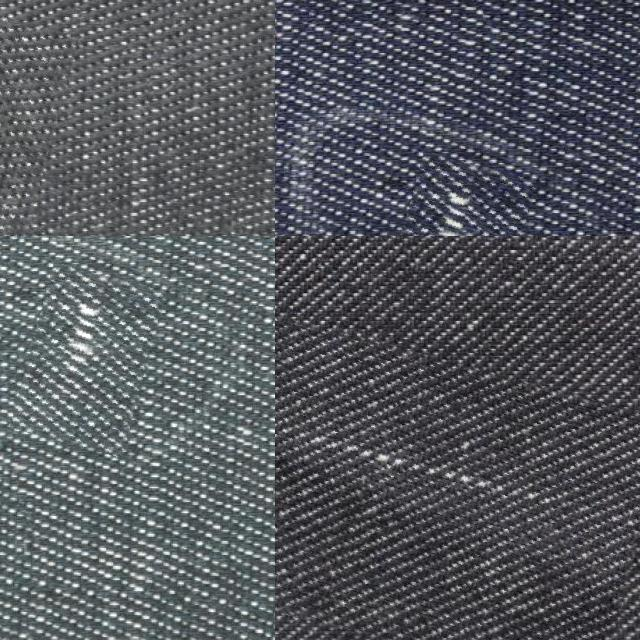Thread_other: (275, 293, 640, 640), (20, 267, 156, 451), (0, 6, 66, 236), (390, 156, 526, 236)
